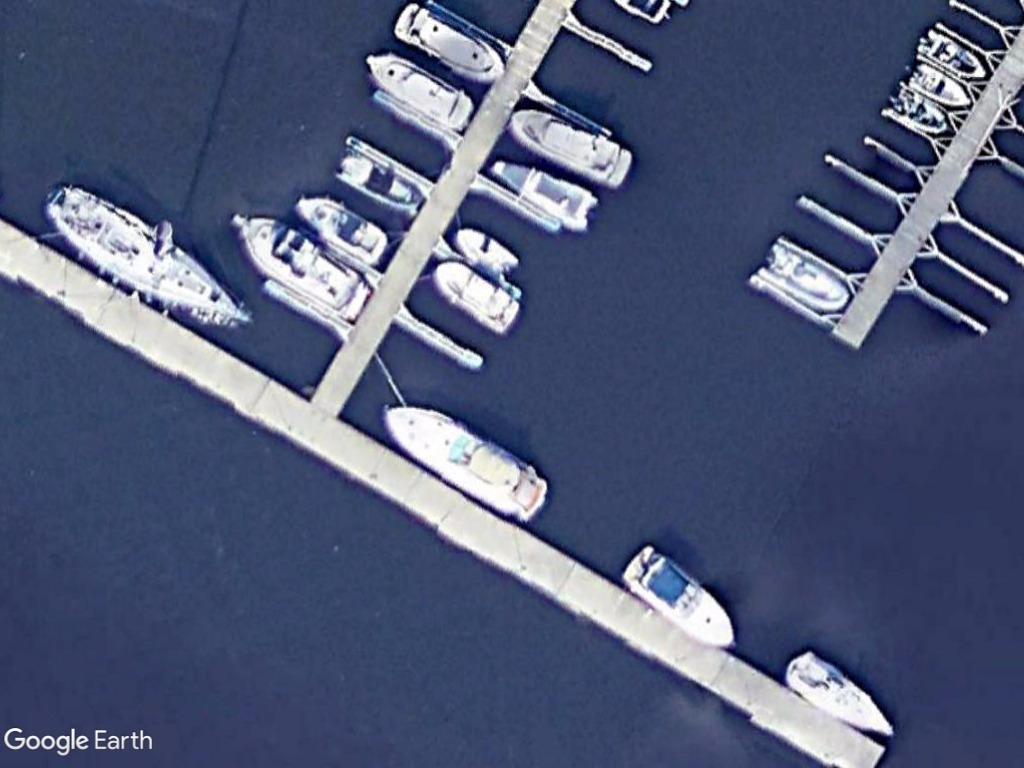boat: (43, 177, 246, 331), (379, 398, 551, 528), (230, 210, 376, 327), (618, 539, 742, 656), (782, 646, 899, 743), (508, 105, 634, 194), (390, 0, 510, 90), (361, 45, 476, 134), (486, 153, 600, 235), (292, 185, 394, 267), (756, 240, 854, 318), (431, 257, 522, 338), (334, 144, 429, 218), (912, 25, 990, 86), (877, 81, 953, 138), (452, 224, 520, 281), (905, 57, 973, 109)
